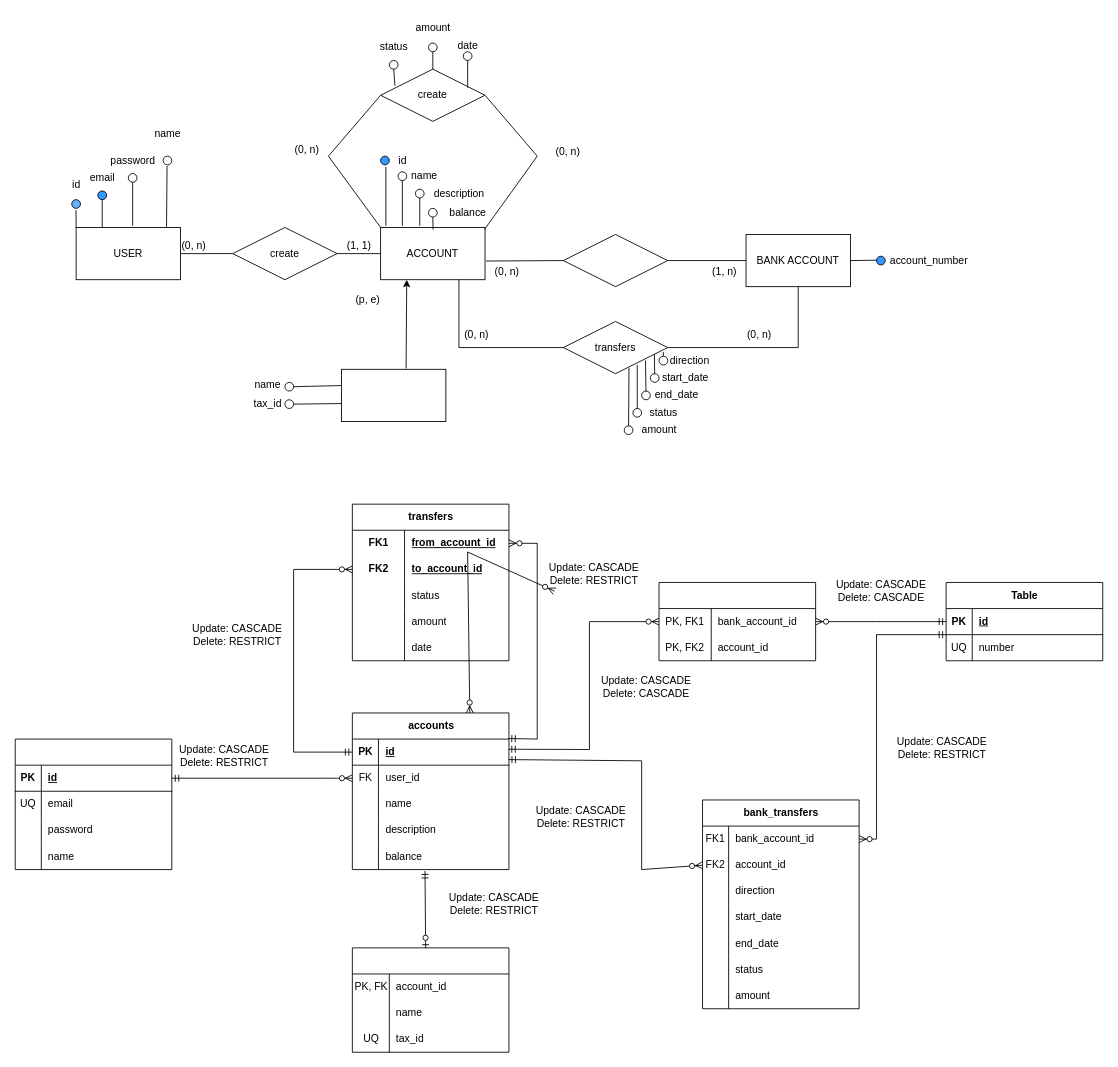
Image size: 1118x1067. Some labels were removed from this diagram. The shapes that lost their labels are listed below. From the top down, each one's box as (x1, y1, x2, y2) in pixels, then its label:
(562, 234, 668, 287): is associated
(341, 368, 446, 422): CORPORATE ACCOUNT
(658, 582, 816, 661): bank_account_associations
(14, 738, 172, 870): users
(351, 947, 509, 1052): corporate_accounts
